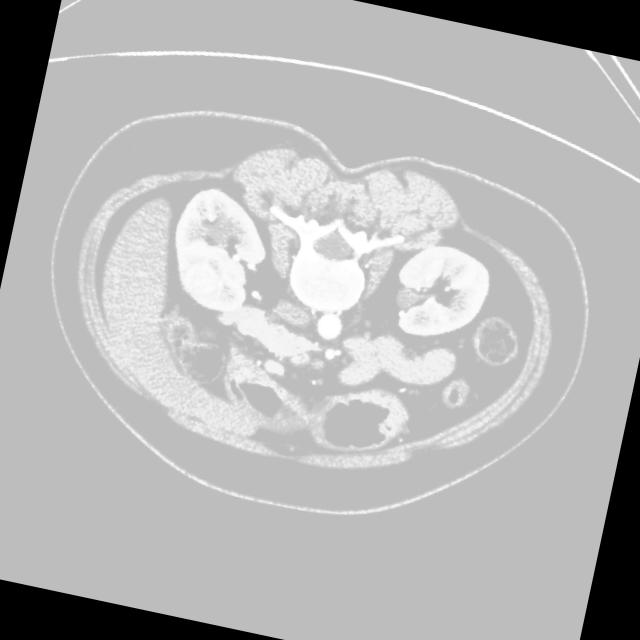TUMOR: (149, 175, 575, 452)
